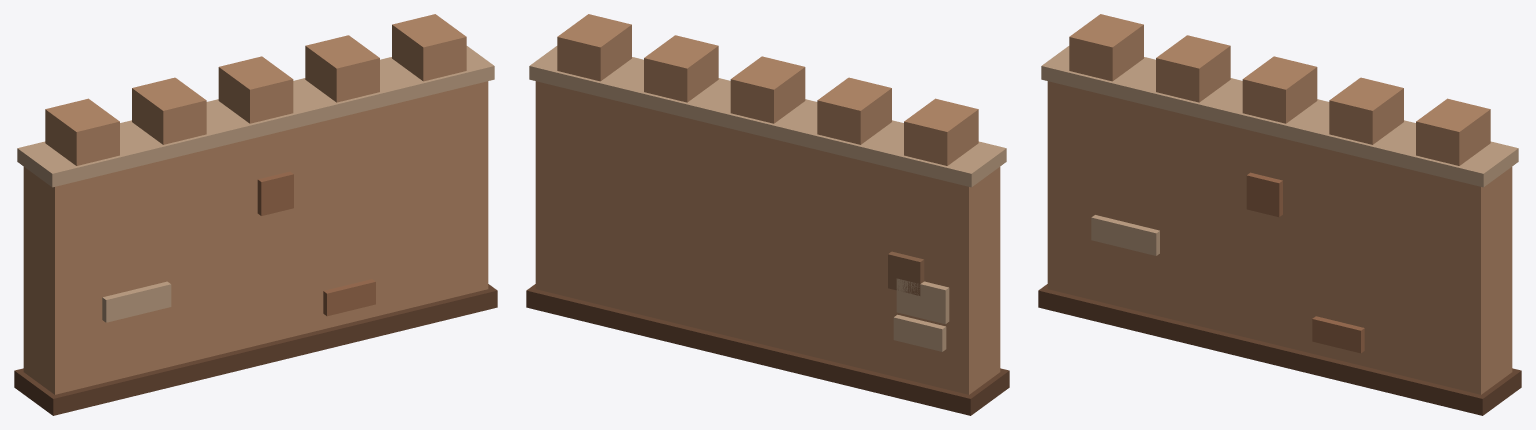
File: dd_wall.glb
3 renders of one model, left to right at view 1: azimuth 30°, elevation 25°; view 2: azimuth 150°, elevation 25°; view 3: azimuth 330°, elevation 25°, orthographic.
Parts seen in each view (by area): view 1: DUBG_dd_wall; view 2: DUBG_dd_wall; view 3: DUBG_dd_wall.
Part boxes in pixels (<box>): DUBG_dd_wall: <box>14,14,497,415</box>; DUBG_dd_wall: <box>526,14,1009,415</box>; DUBG_dd_wall: <box>1038,14,1521,415</box>.
Bounding box in the file's own units: 9.55 × 5.64 × 1.44.
